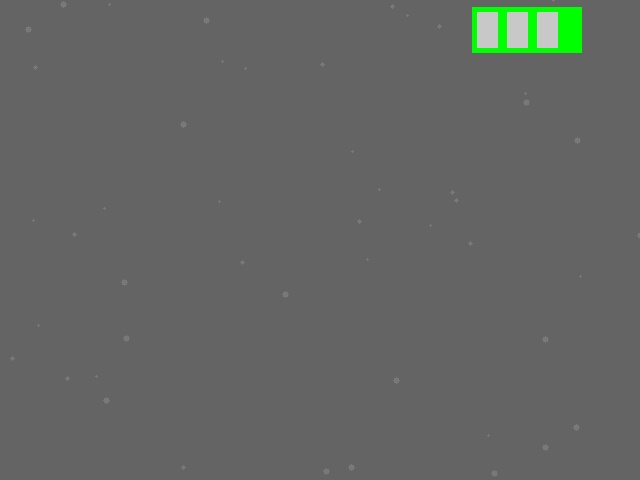bus: (472, 7, 581, 52)
